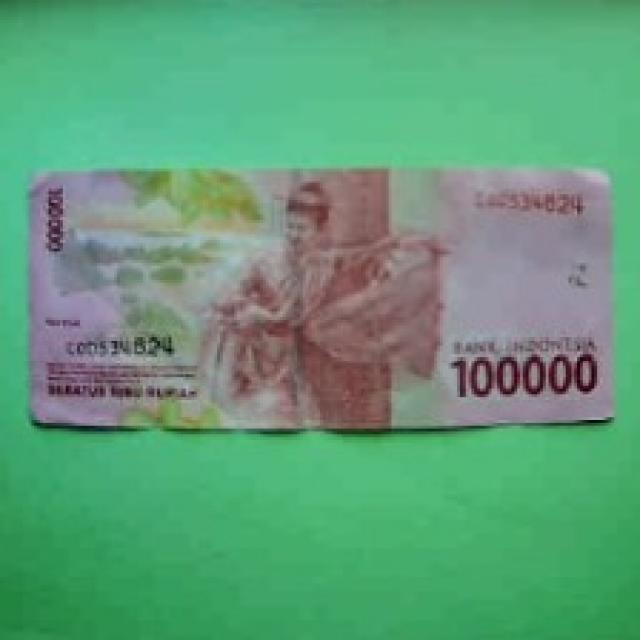lima puluh ribu rupiah: (0, 134, 640, 457)
